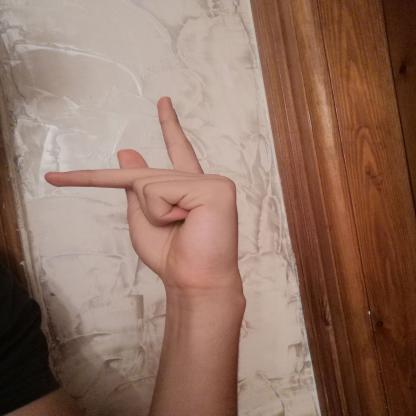DHAA: (32, 86, 248, 294)
